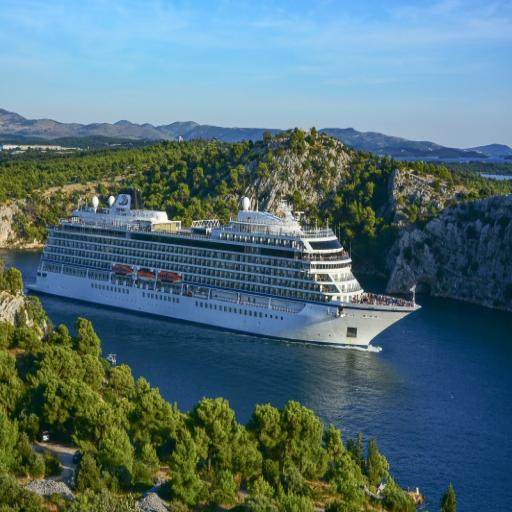cruises: (23, 185, 424, 360)
